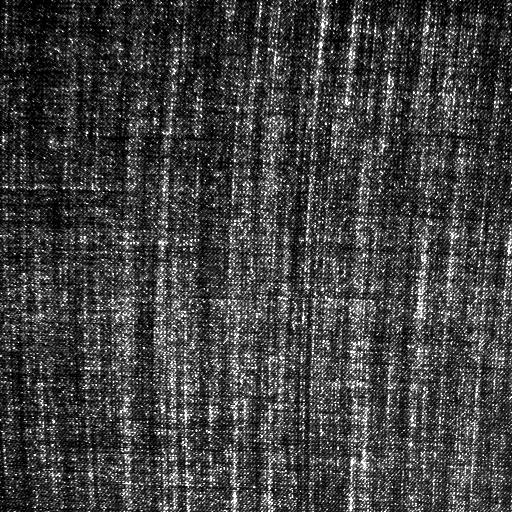fabric_perfect: (2, 6, 510, 512)
